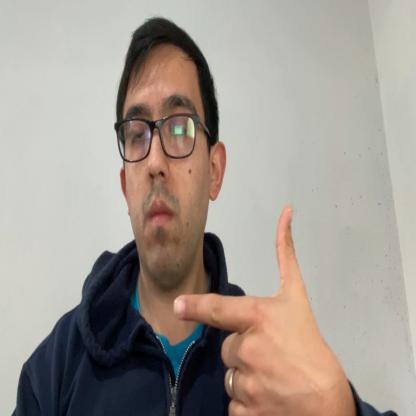G: (174, 204, 349, 416)
